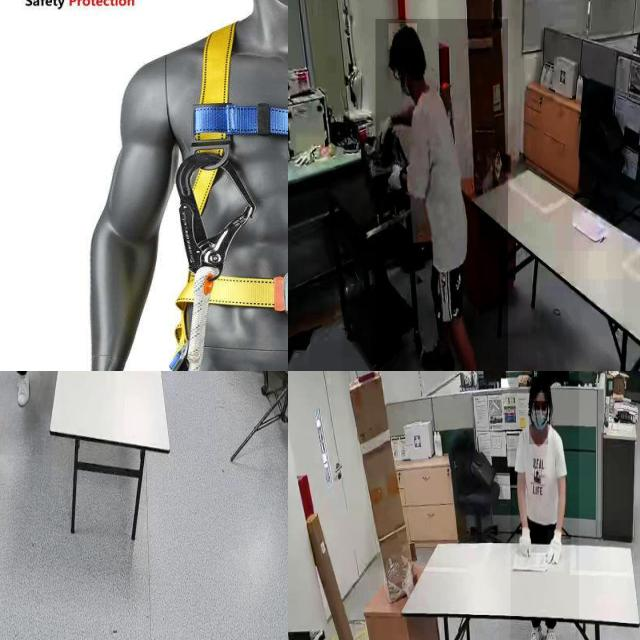Harness: (170, 16, 288, 371)
face_mask: (529, 401, 549, 445)
hand_glove: (384, 156, 406, 206), (517, 522, 537, 565), (547, 530, 565, 573)
head_nohelmet: (388, 23, 418, 50), (529, 374, 551, 394)
person: (375, 19, 508, 371), (510, 371, 579, 640)
shoes: (421, 335, 456, 371), (13, 371, 32, 408), (542, 620, 561, 640), (524, 622, 542, 640)
